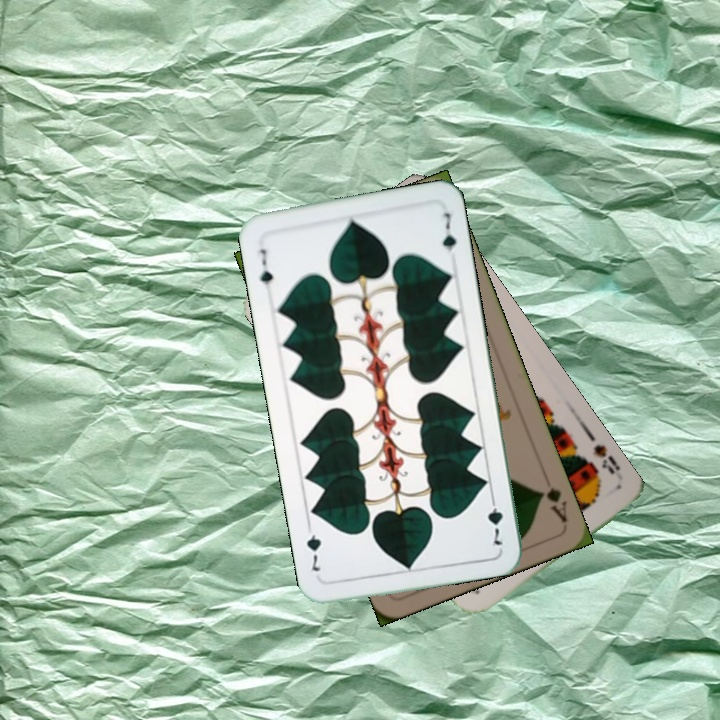G7: (483, 491, 506, 549), (256, 245, 276, 295)
GA: (535, 483, 570, 526)
S8: (589, 440, 623, 477)
